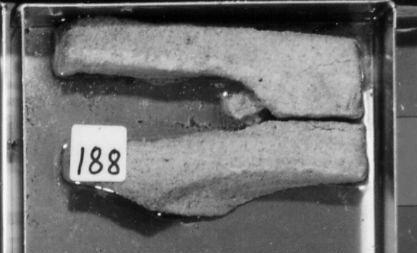hplug: (61, 66, 273, 149)
